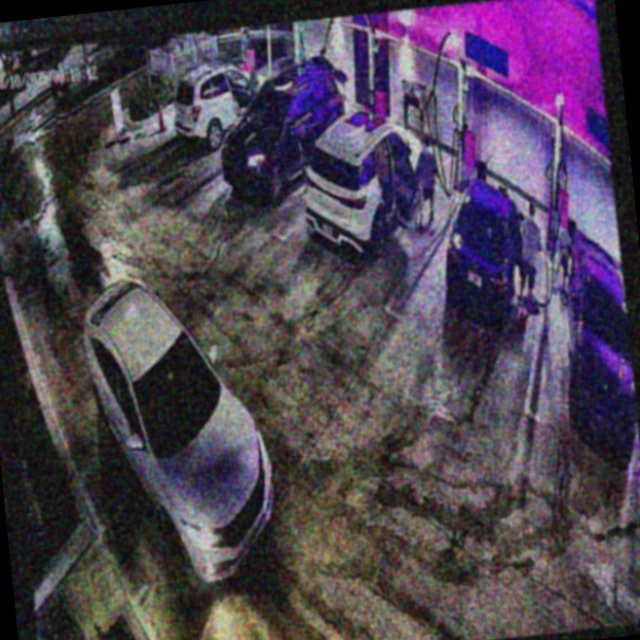Car: (74, 264, 286, 597), (298, 105, 438, 265), (211, 56, 354, 205), (439, 177, 533, 330), (170, 56, 274, 151)
